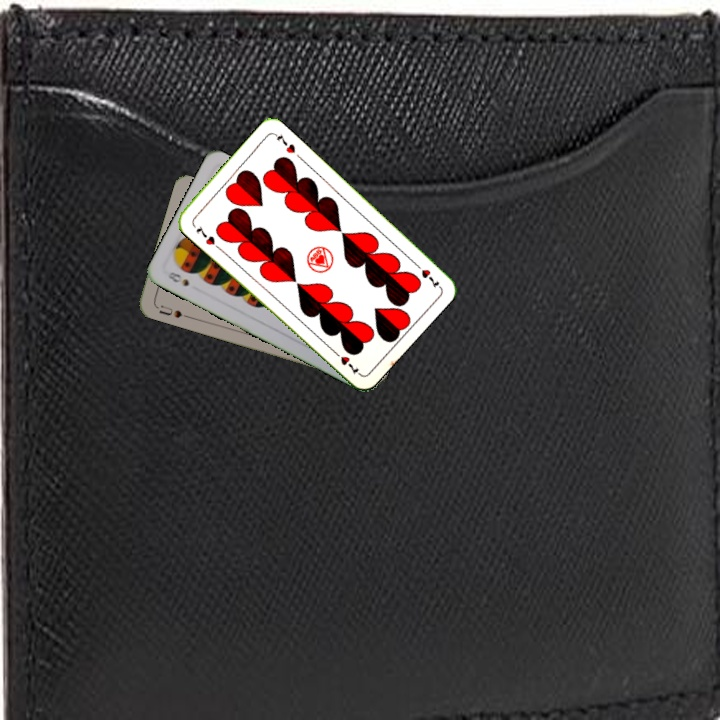H7: (410, 258, 442, 291), (192, 222, 222, 252)
S8: (163, 268, 192, 289)
SU: (155, 301, 192, 321)
